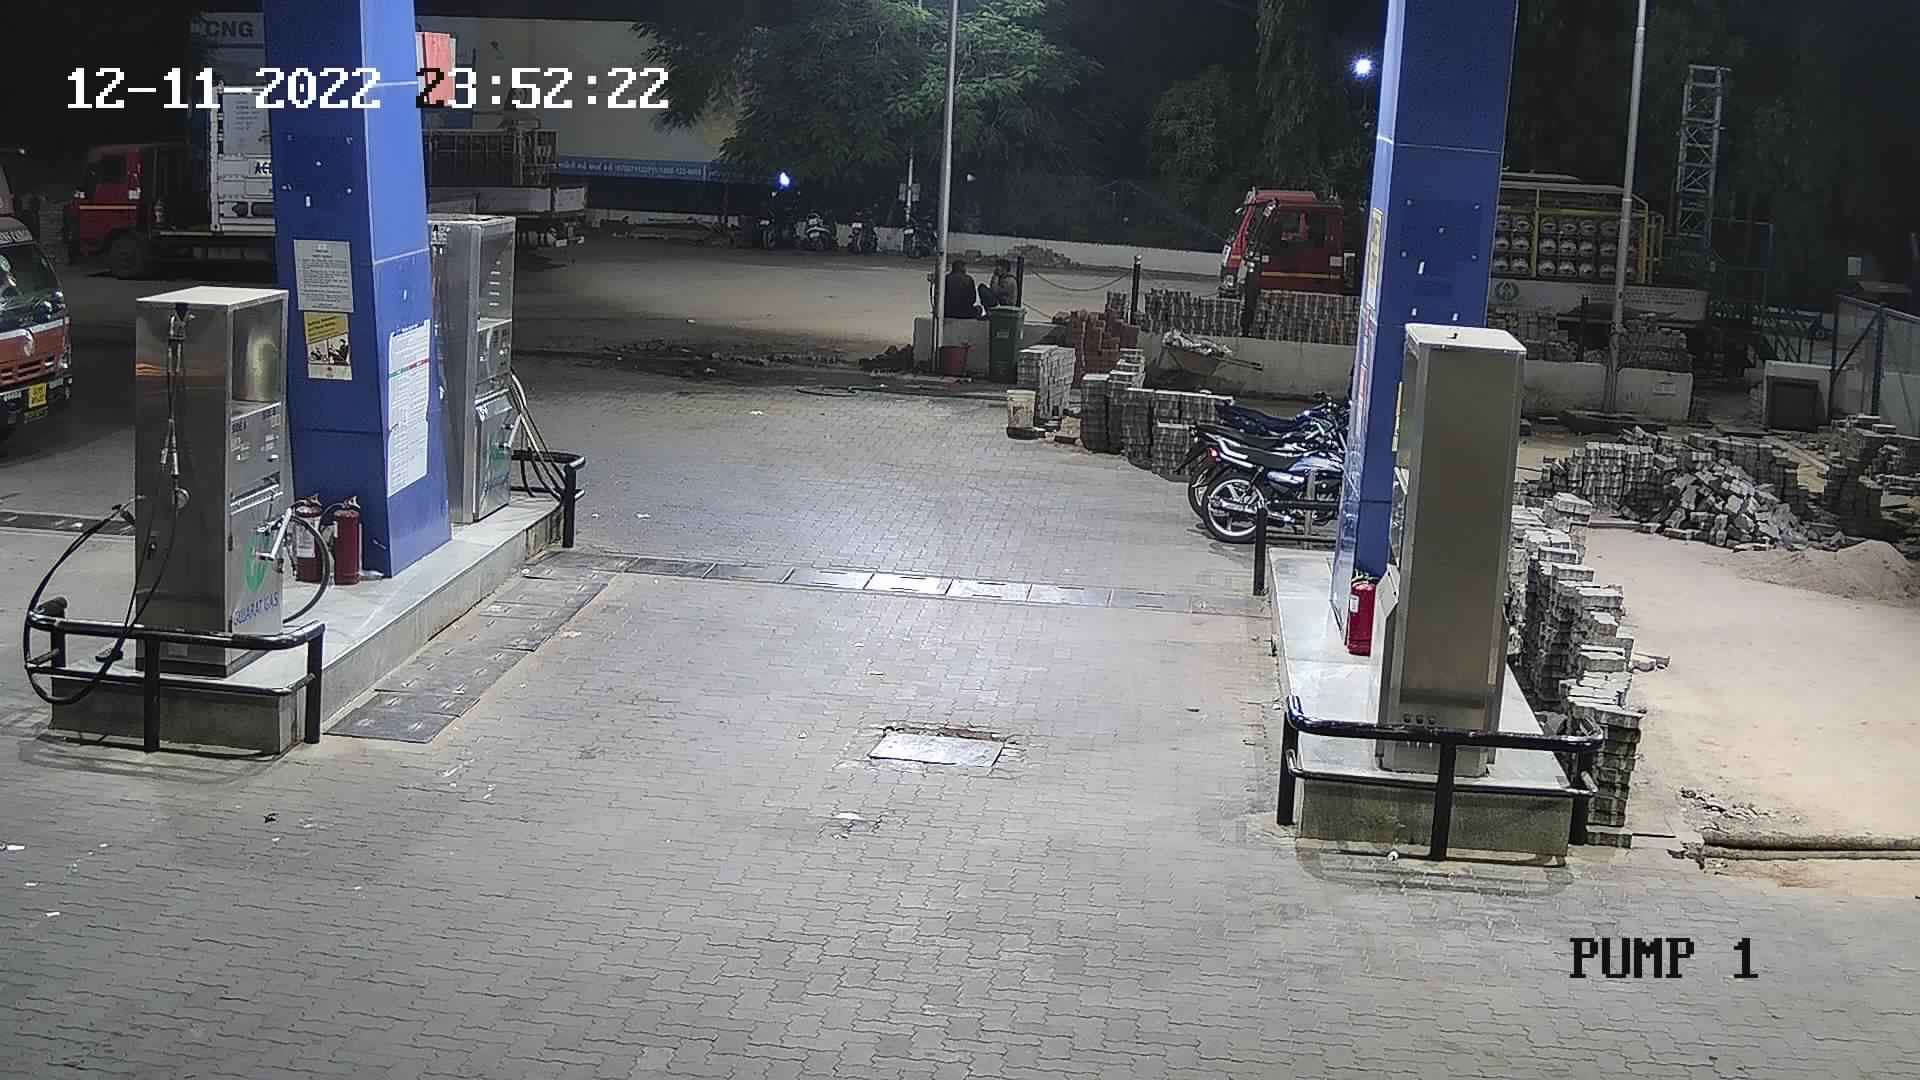Bike: (1180, 388, 1352, 559), (889, 191, 948, 266), (746, 179, 802, 253), (795, 186, 847, 257), (837, 189, 891, 255)
HMV: (59, 65, 287, 281), (406, 80, 599, 264), (1, 131, 91, 500), (1199, 167, 1378, 344)
